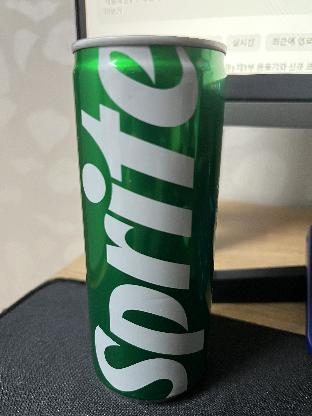Can: (71, 36, 229, 407)
